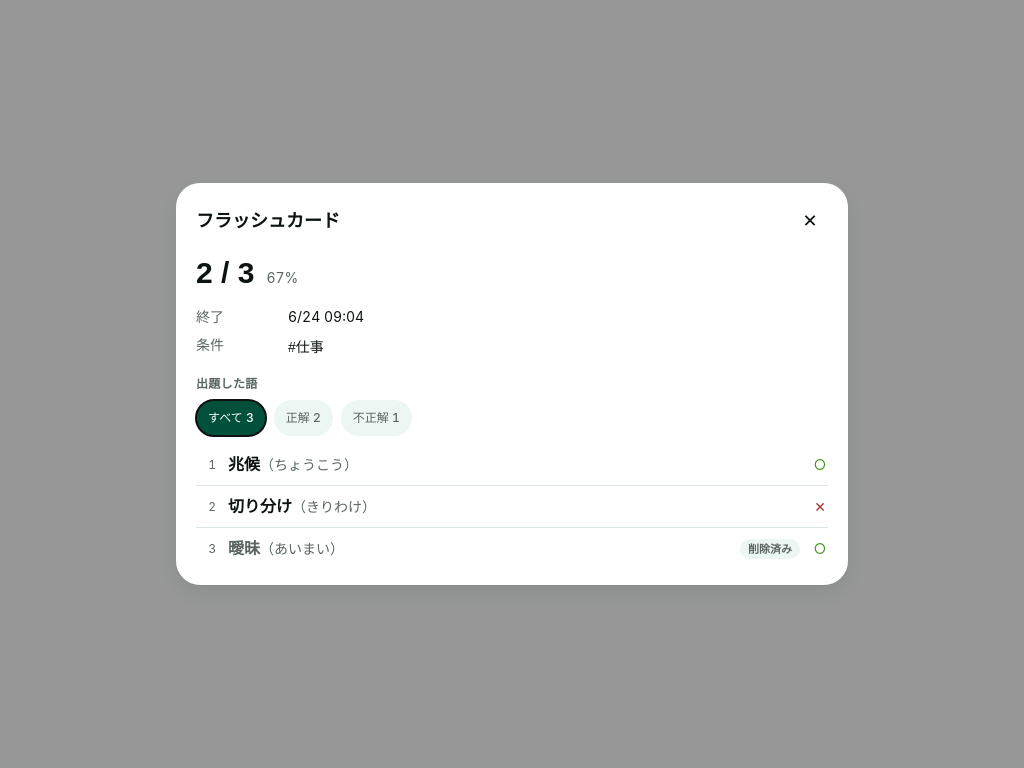
Test: SessionDialog — the run, printed in full › keeps each row numbered by where it came up in the drill, not in the filter
Click the button "不正解 1". click: click(376, 418)
box: [341,400,412,436]
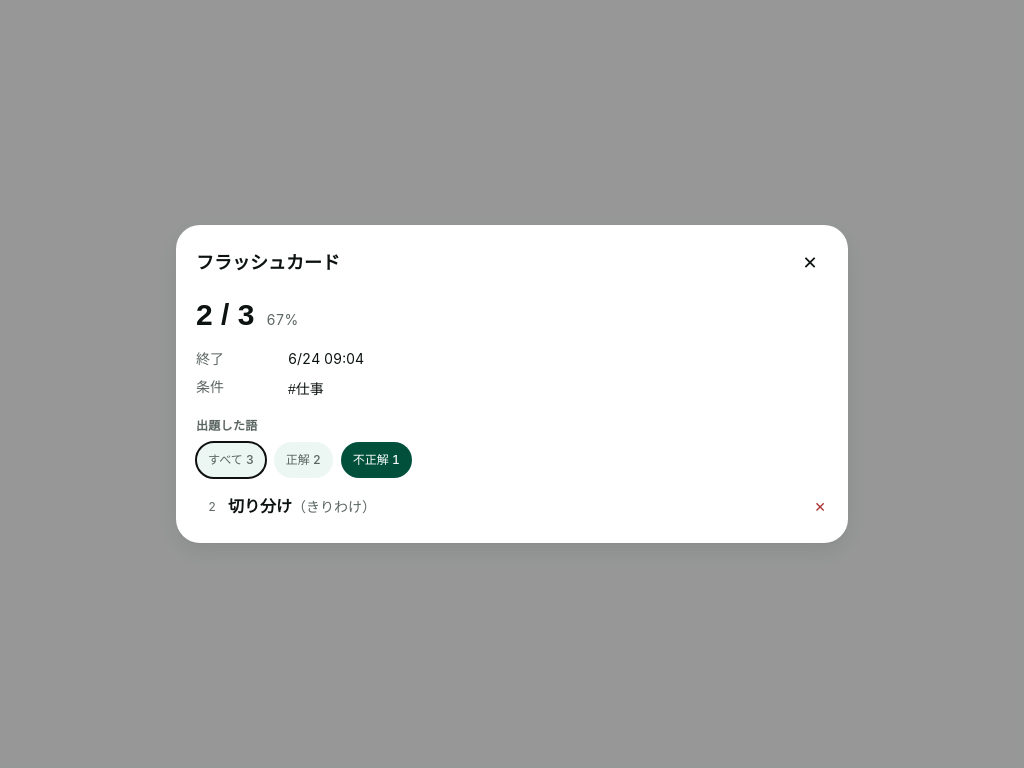
Expected: the list items read "2切り分け（きりわけ）✕", in this order, [208,498,826,515]
